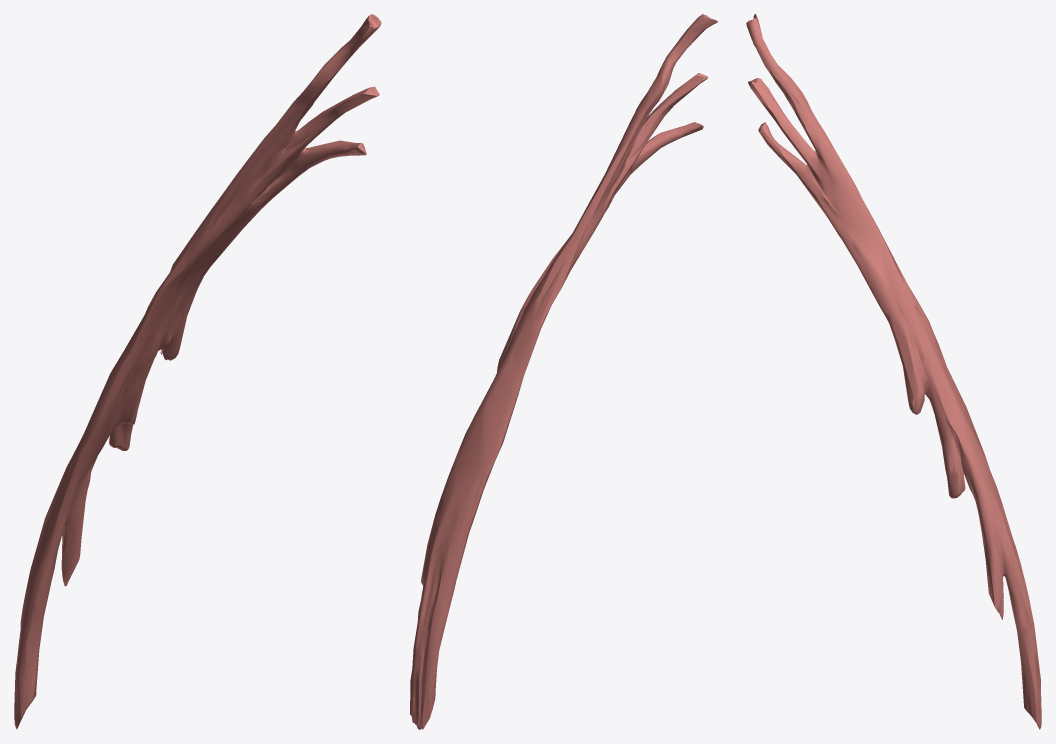
Rendered from fma22745_fj1526m.glb.
3 views of the same model, side by side, from view 1: azimuth 90°, elevation 25°; view 2: azimuth 150°, elevation 25°; view 3: azimuth 270°, elevation 25° (orthographic). The views are drawn at different scales.
Parts seen in each view (by area): view 1: FMA22745_FJ1526M; view 2: FMA22745_FJ1526M; view 3: FMA22745_FJ1526M.
Part boxes in pixels (x1=…): FMA22745_FJ1526M: x1=14, y1=14, x2=381, y2=729; FMA22745_FJ1526M: x1=410, y1=14, x2=717, y2=729; FMA22745_FJ1526M: x1=746, y1=14, x2=1041, y2=729.
Bounding box in the file's own units: 0.0511 × 0.1799 × 0.0749.
